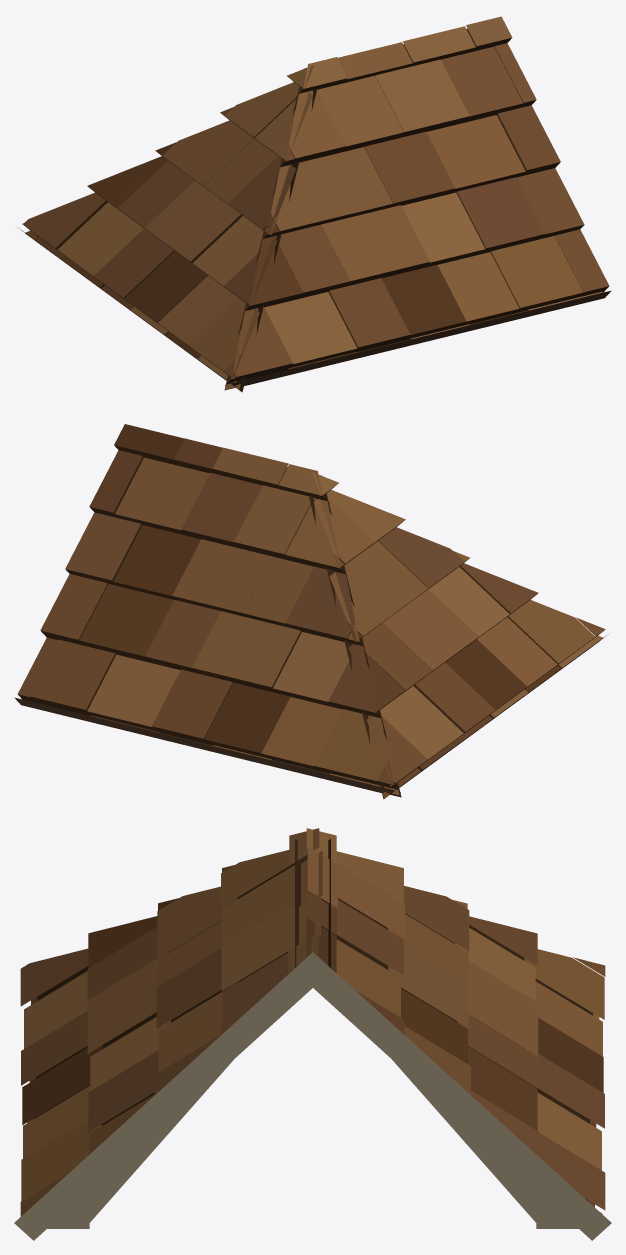
Rendered from roof-gable-end-wood.glb.
The picture shows the model from 3 angles, top to bottom: view 1: azimuth 30°, elevation 25°; view 2: azimuth 150°, elevation 25°; view 3: azimuth 270°, elevation 25°; orthographic projection. The views are drawn at different scales.
Parts seen in each view (by area): view 1: roof-gable-end-wood; view 2: roof-gable-end-wood; view 3: roof-gable-end-wood.
Part boxes in pixels (x1,y1,x2,y2): roof-gable-end-wood: [17, 16, 611, 392]; roof-gable-end-wood: [14, 424, 608, 799]; roof-gable-end-wood: [14, 828, 611, 1240].
Bounding box in the file's own units: 1.09 × 0.5707 × 1.07.
